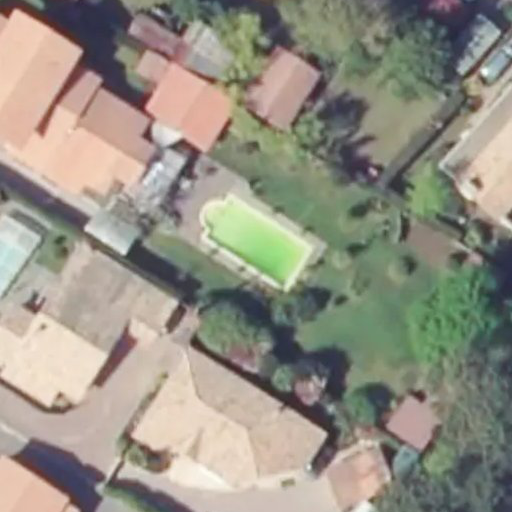pool: (186, 229, 314, 246)
